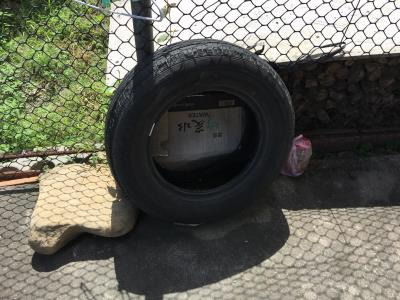tire: (101, 37, 298, 230)
